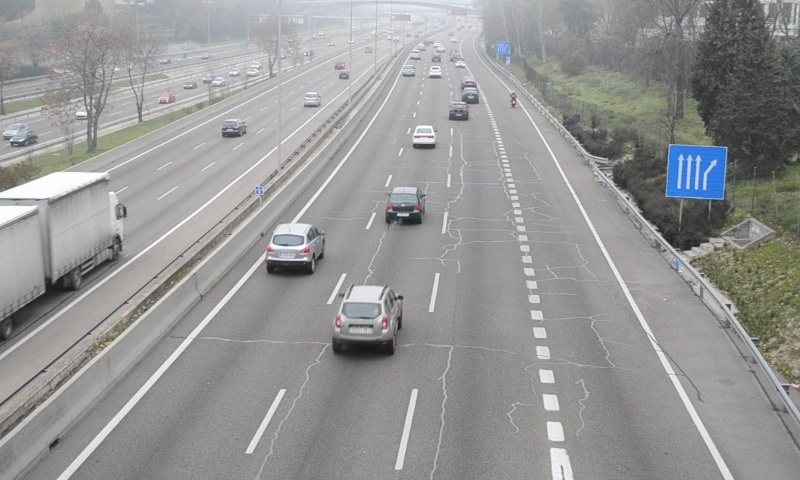car: (334, 285, 400, 344), (267, 224, 325, 265), (386, 186, 425, 222), (412, 124, 436, 145), (448, 101, 468, 120), (462, 87, 480, 103)
motorcycle: (509, 90, 518, 108)
